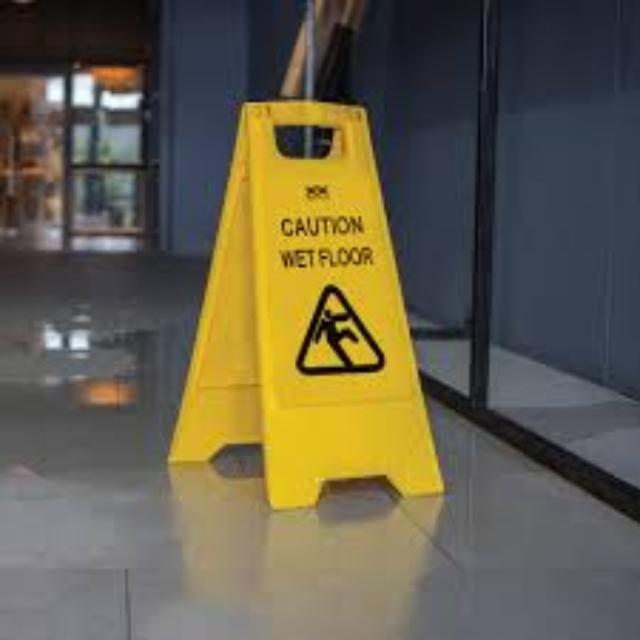tron truot: (168, 100, 441, 506)
